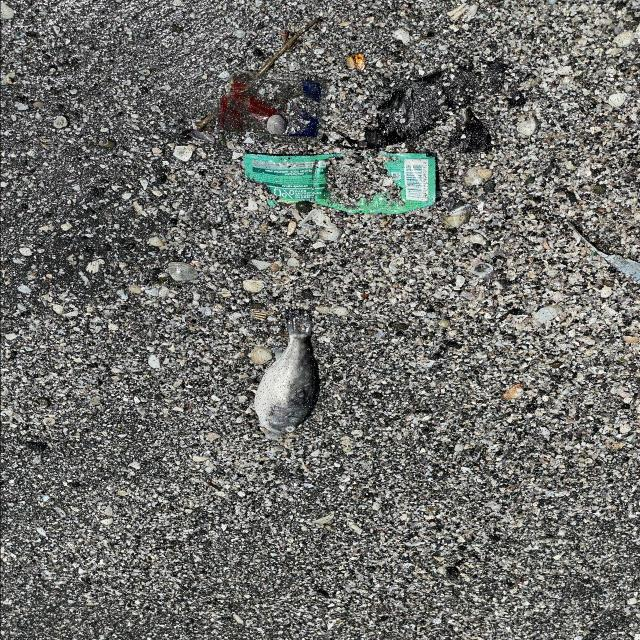plastic_waste: (242, 150, 439, 216)
